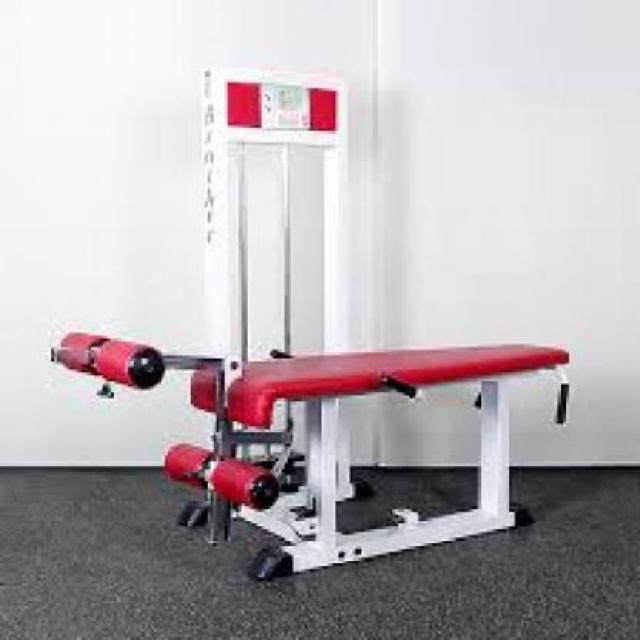reg curl machine: (57, 58, 575, 580)
